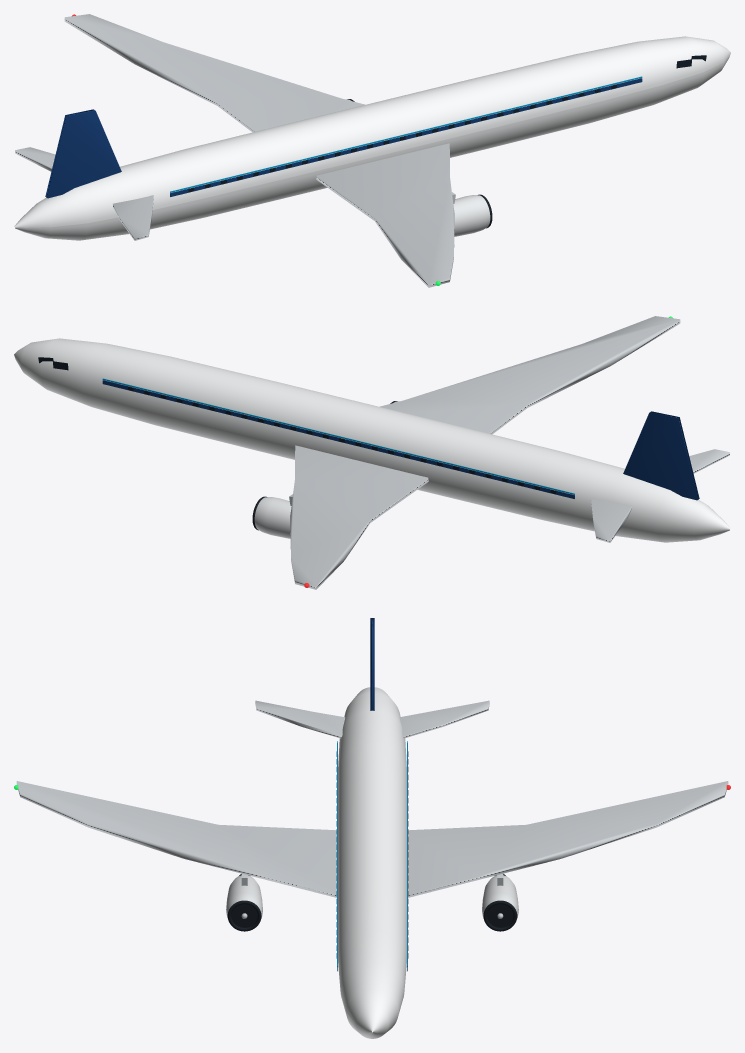
The model's file is skyroute_787_10.glb.
3 renders of one model, top to bottom at view 1: azimuth 30°, elevation 25°; view 2: azimuth 150°, elevation 25°; view 3: azimuth 270°, elevation 25°, orthographic. The views are drawn at different scales.
Parts seen in each view (by area): view 1: Fuselage, RightWing, LeftWing, VerticalTail, SkyRoute_787_10, RightEngine_GEnx_Style, RightHorizontalTail, LeftHorizontalTail; view 2: Fuselage, LeftWing, RightWing, VerticalTail, SkyRoute_787_10, LeftEngine_GEnx_Style, LeftHorizontalTail, RightHorizontalTail; view 3: Fuselage, RightWing, LeftWing, RightEngine_GEnx_Style, LeftEngine_GEnx_Style, LeftHorizontalTail, RightHorizontalTail, SkyRoute_787_10.
Part boxes in pixels (x1=…): Fuselage: x1=14, y1=36, x2=730, y2=240; RightWing: x1=316, y1=143, x2=454, y2=287; LeftWing: x1=64, y1=14, x2=365, y2=132; VerticalTail: x1=45, y1=109, x2=121, y2=198; SkyRoute_787_10: x1=72, y1=14, x2=706, y2=285; RightEngine_GEnx_Style: x1=453, y1=194, x2=492, y2=236; RightHorizontalTail: x1=113, y1=195, x2=153, y2=240; LeftHorizontalTail: x1=15, y1=147, x2=55, y2=171; Fuselage: x1=14, y1=338, x2=730, y2=542; LeftWing: x1=290, y1=445, x2=428, y2=589; RightWing: x1=379, y1=316, x2=680, y2=434; VerticalTail: x1=623, y1=411, x2=699, y2=500; SkyRoute_787_10: x1=38, y1=316, x2=672, y2=587; LeftEngine_GEnx_Style: x1=252, y1=496, x2=291, y2=538; LeftHorizontalTail: x1=591, y1=497, x2=631, y2=542; RightHorizontalTail: x1=689, y1=449, x2=729, y2=473; Fuselage: x1=338, y1=687, x2=406, y2=1038; RightWing: x1=16, y1=781, x2=336, y2=897; LeftWing: x1=408, y1=781, x2=728, y2=897; RightEngine_GEnx_Style: x1=226, y1=874, x2=262, y2=931; LeftEngine_GEnx_Style: x1=482, y1=874, x2=518, y2=931; LeftHorizontalTail: x1=399, y1=700, x2=489, y2=738; RightHorizontalTail: x1=255, y1=700, x2=345, y2=738; SkyRoute_787_10: x1=14, y1=741, x2=730, y2=971.
Bounding box in the file's own units: 68.3 × 13.71 × 60.54.
